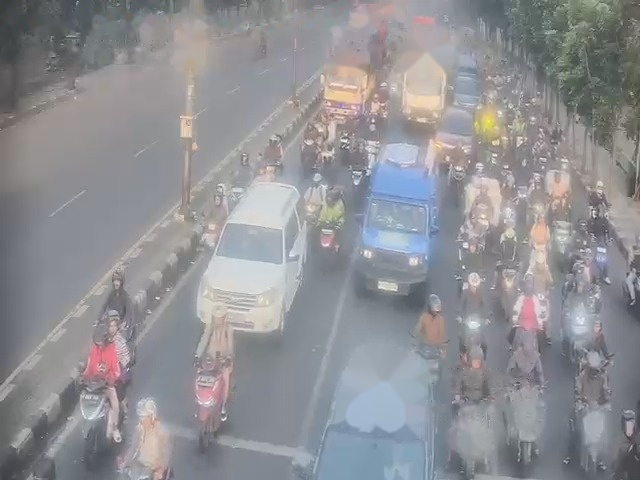Mobil: (207, 183, 297, 333), (363, 144, 429, 296)
Motor: (190, 367, 227, 443), (456, 397, 490, 459), (463, 308, 488, 357), (552, 217, 571, 259), (498, 261, 517, 301)
